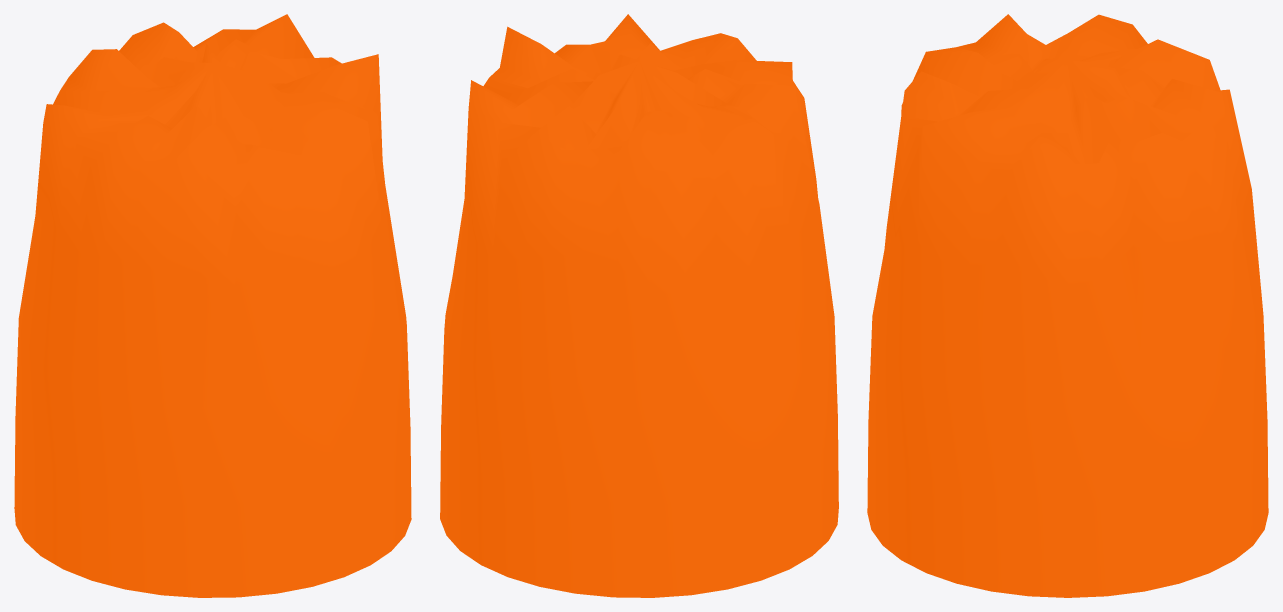
File: FireColumn.fbx
3 renders of one model, left to right at view 1: azimuth 30°, elevation 25°; view 2: azimuth 150°, elevation 25°; view 3: azimuth 270°, elevation 25°, orthographic.
Parts seen in each view (by area): view 1: Cylinder; view 2: Cylinder; view 3: Cylinder.
Part boxes in pixels (bbox=[...]): Cylinder: bbox=[14, 14, 411, 597]; Cylinder: bbox=[440, 14, 838, 597]; Cylinder: bbox=[867, 14, 1268, 597].
Bounding box in the file's own units: 1 × 1.25 × 1.
